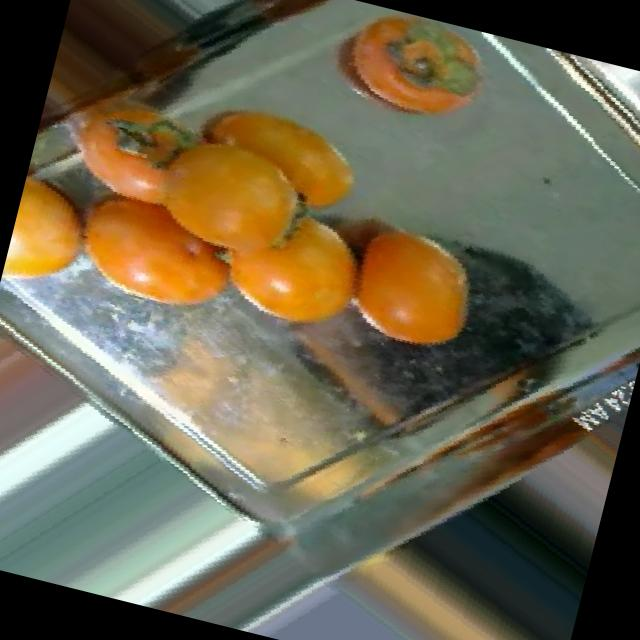Fruit: (30, 144, 277, 355), (304, 190, 512, 382), (192, 176, 398, 366), (289, 0, 518, 164), (0, 303, 120, 528), (0, 157, 115, 306)
